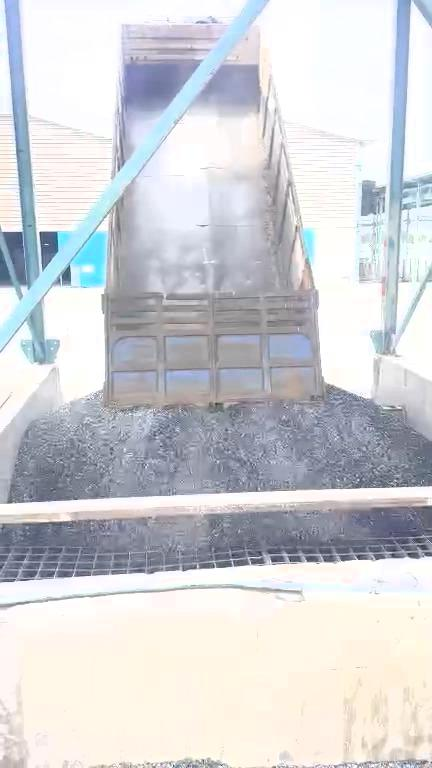gravel: (10, 386, 432, 501), (4, 509, 432, 550), (98, 759, 230, 767), (316, 761, 432, 767)
